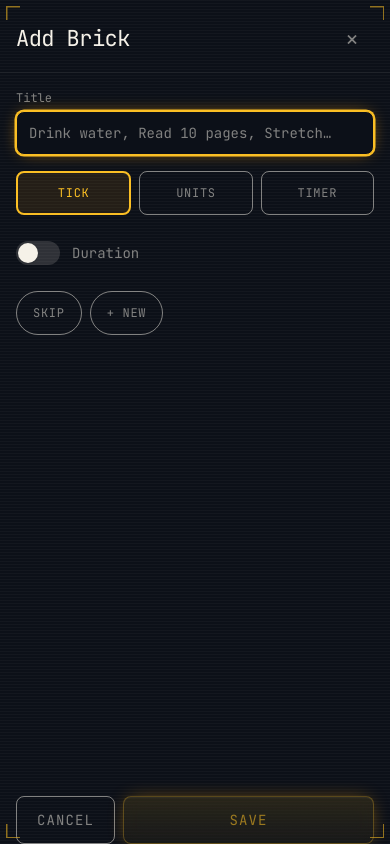
C-m4e-003: Duration toggle ON fills default Start/End from parent block › nested: Start=block.start, End=block.end; Recurrence default Just today
Step 1. Click the switch named "duration" → (38, 253), box [16,231,60,275]
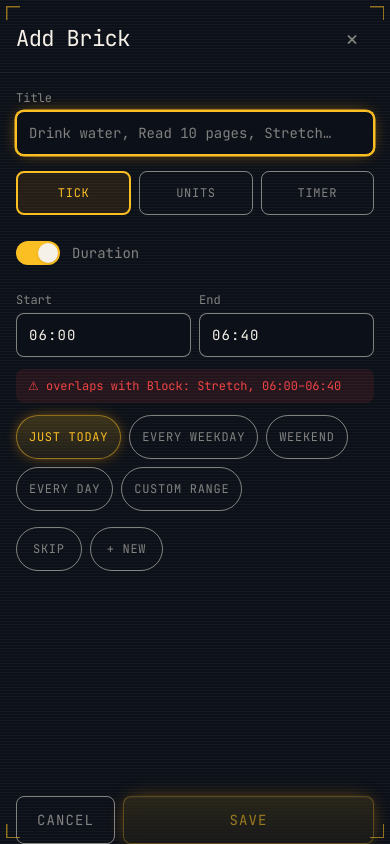
expect the label labelled "Start" holds "0600": met, box [16,292,52,308]
expect the label labelled "End" holds "0640": met, box [199,292,221,308]
